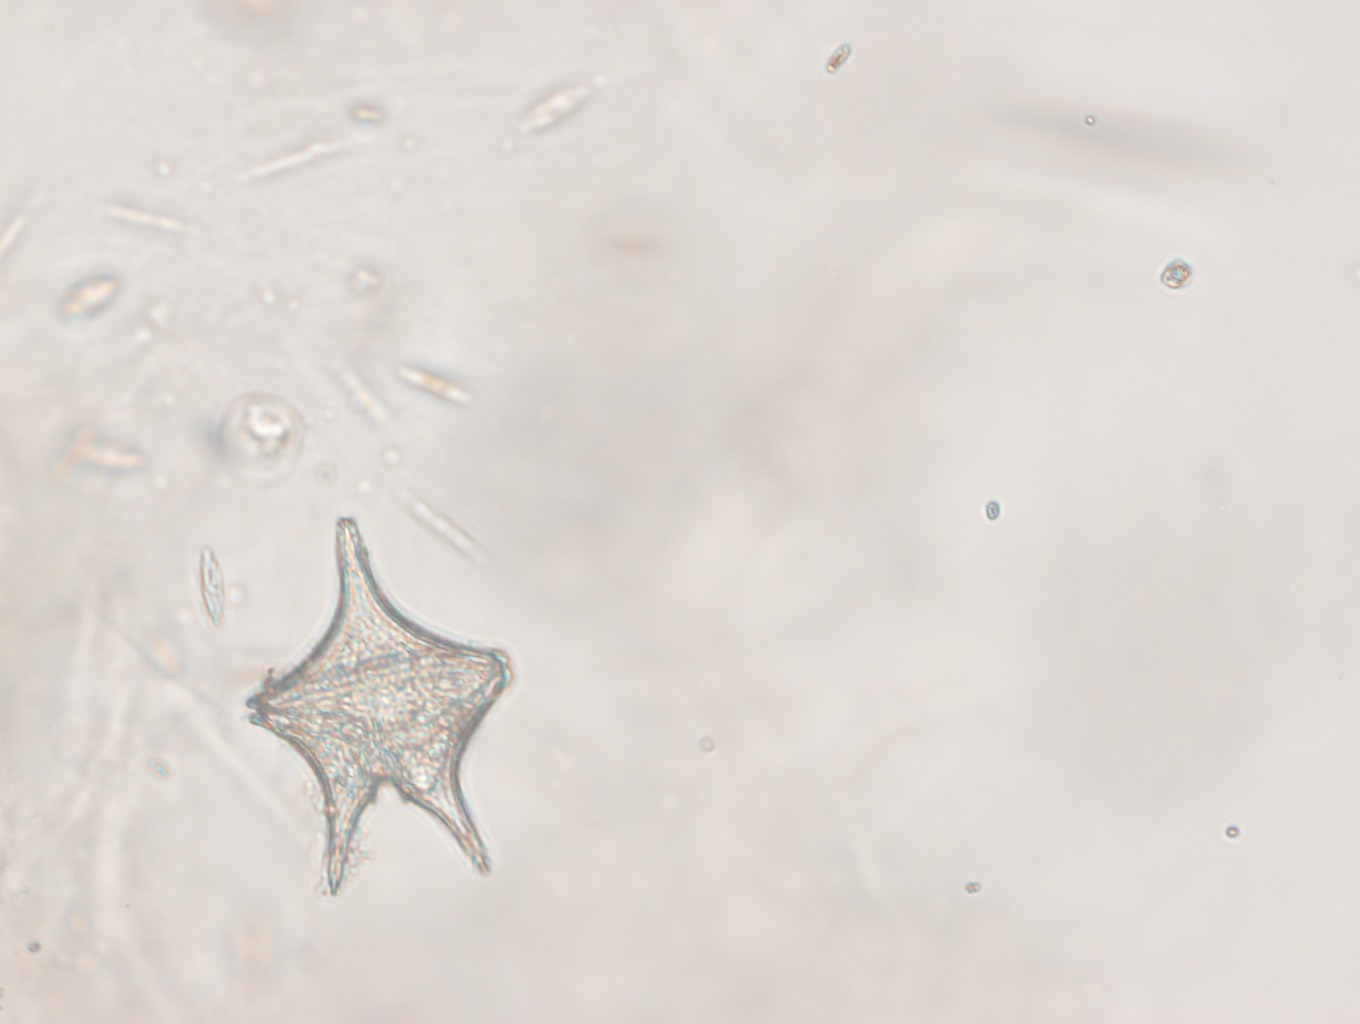protoperidinium: (228, 518, 525, 897)
